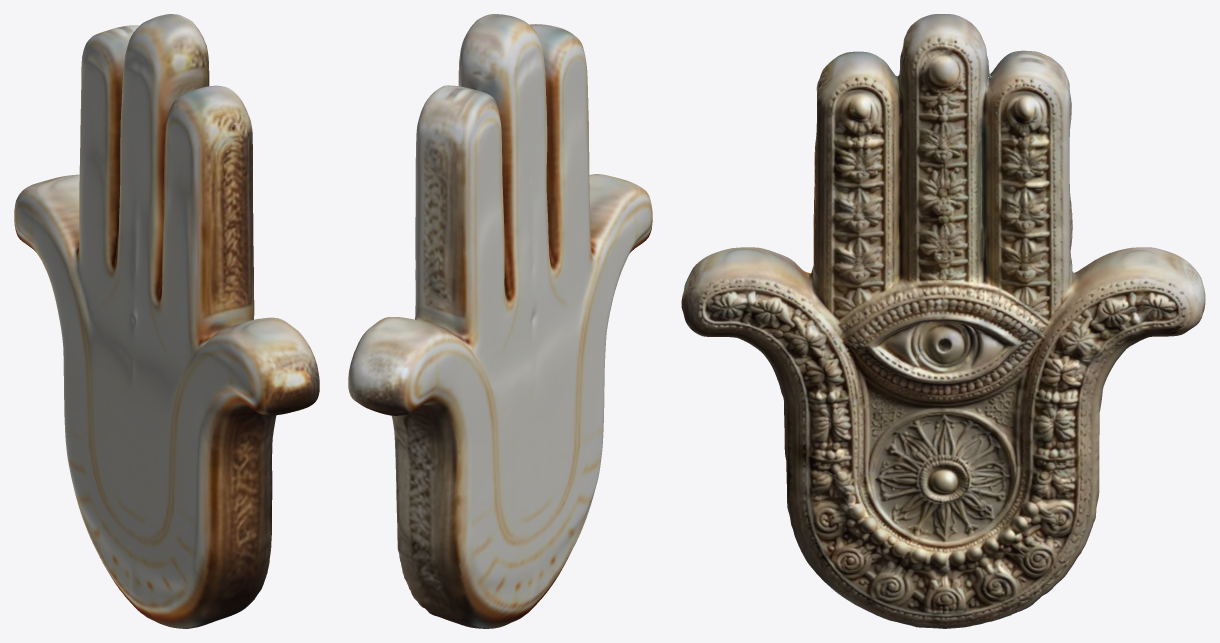
Rendered from hamsa_hand_3d.glb.
3 views of the same model, side by side, from view 1: azimuth 30°, elevation 25°; view 2: azimuth 150°, elevation 25°; view 3: azimuth 270°, elevation 25° (orthographic).
Parts seen in each view (by area): view 1: tripo_node_792fcf99-f6e6-4895-bf32-a0aa8c7c2566; view 2: tripo_node_792fcf99-f6e6-4895-bf32-a0aa8c7c2566; view 3: tripo_node_792fcf99-f6e6-4895-bf32-a0aa8c7c2566.
Part boxes in pixels (bbox=[...]): tripo_node_792fcf99-f6e6-4895-bf32-a0aa8c7c2566: bbox=[14, 14, 319, 628]; tripo_node_792fcf99-f6e6-4895-bf32-a0aa8c7c2566: bbox=[348, 14, 652, 628]; tripo_node_792fcf99-f6e6-4895-bf32-a0aa8c7c2566: bbox=[681, 14, 1205, 628].
Bounding box in the file's own units: 0.125 × 0.8666 × 0.6806.
1 material, 1 textured.
